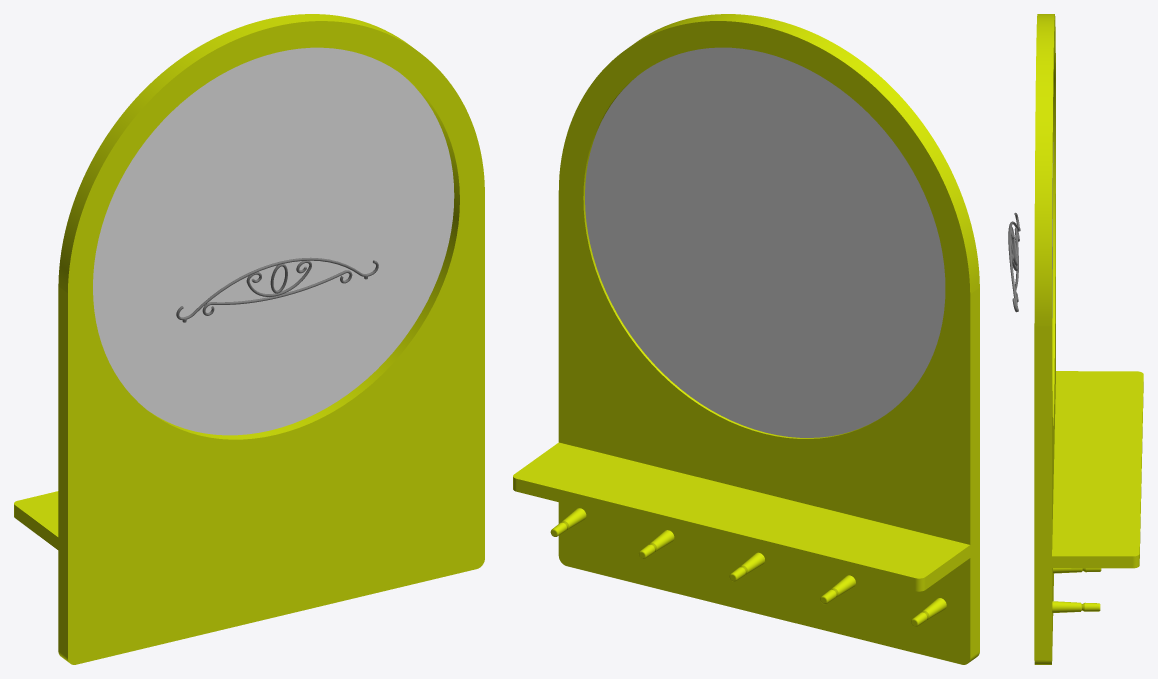
Rendered from mirror_2.glb.
3 views of the same model, side by side, from view 1: azimuth 30°, elevation 25°; view 2: azimuth 150°, elevation 25°; view 3: azimuth 270°, elevation 25° (orthographic). The views are drawn at different scales.
Parts seen in each view (by area): view 1: IKE160035, Loft004; view 2: IKE160035; view 3: IKE160035, Loft004.
Boxes of the visible parts, <box> form: IKE160035: <box>14,14,484,664</box>; Loft004: <box>176,257,378,320</box>; IKE160035: <box>513,14,979,664</box>; IKE160035: <box>1034,14,1143,664</box>; Loft004: <box>1008,212,1019,311</box>.
Size of the model in its own units: 501 by 680 by 154.
